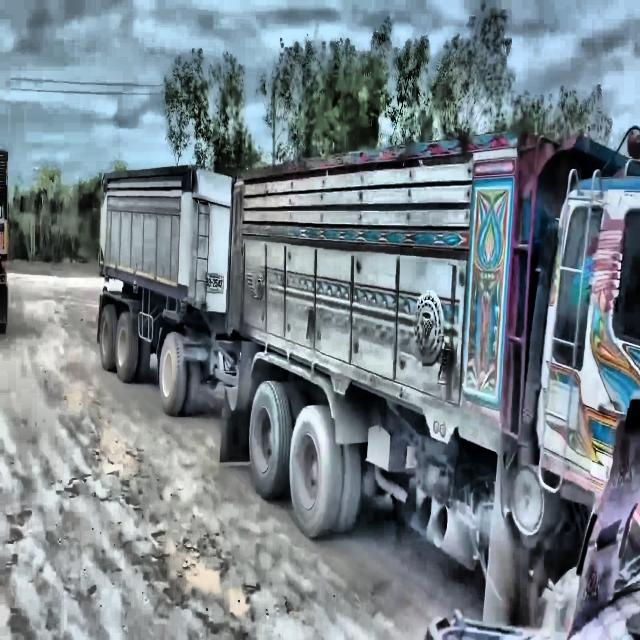trailer: (98, 135, 640, 640)
